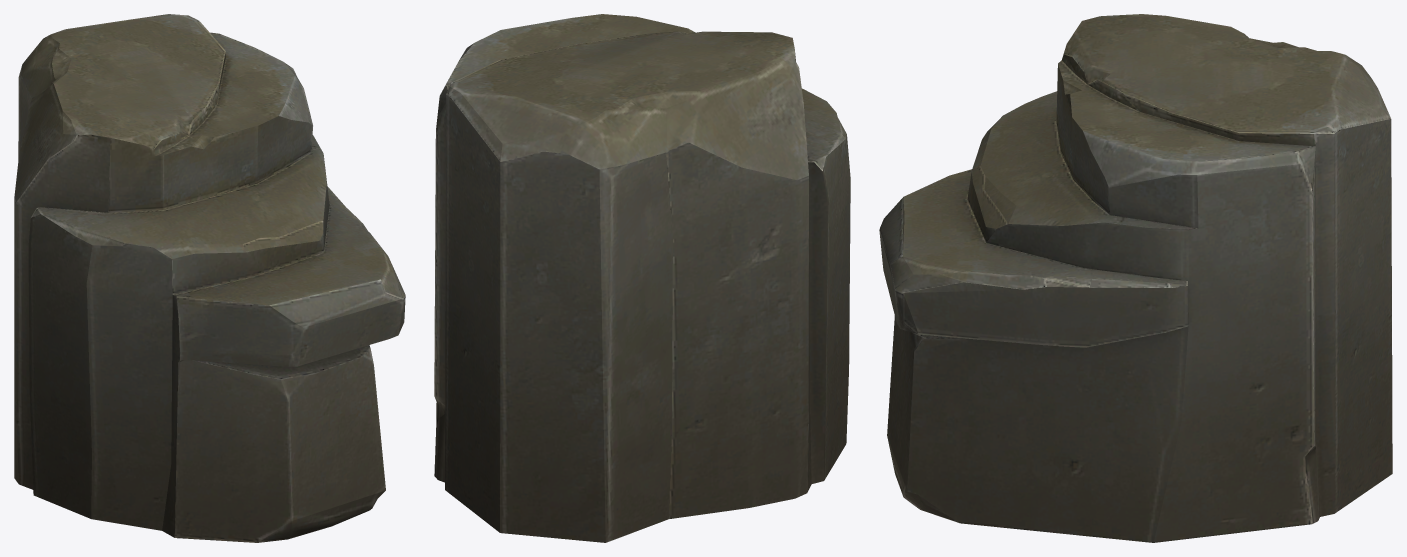
File: riveredge_rock010a.fbx
3 views of the same model, side by side, from view 1: azimuth 30°, elevation 25°; view 2: azimuth 150°, elevation 25°; view 3: azimuth 270°, elevation 25° (orthographic). The views are drawn at different scales.
Visible parts, largest first — view 1: riveredge_rock010a; view 2: riveredge_rock010a; view 3: riveredge_rock010a.
Part boxes in pixels (x1,y1,x2,y2): riveredge_rock010a: [14, 14, 405, 542]; riveredge_rock010a: [434, 14, 850, 542]; riveredge_rock010a: [879, 14, 1392, 542].
Bounding box in the file's own units: 252 × 288 × 341.
